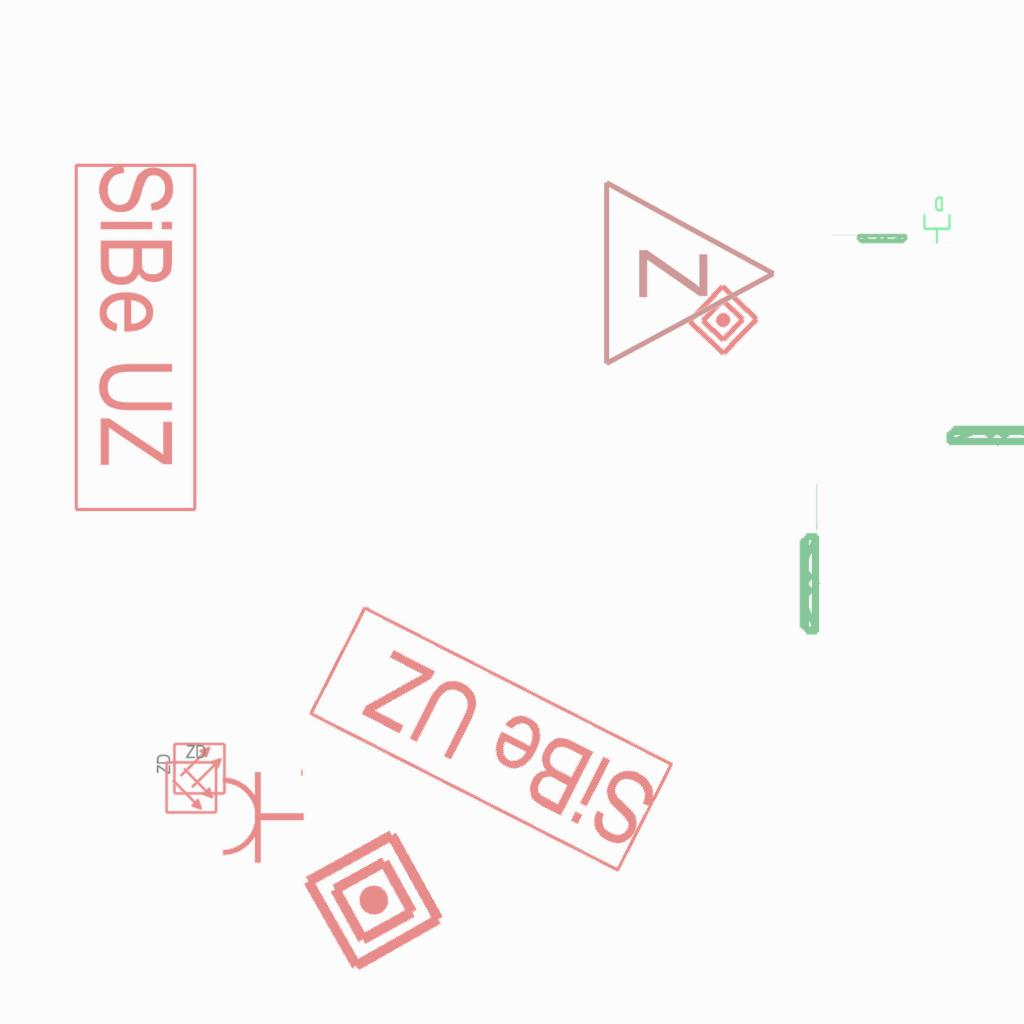Datenanschluss_einfach: (919, 195, 953, 245)
NAM-Nichtautomatischer_Melder: (296, 823, 451, 978), (683, 280, 763, 360)
Schukosteckdose_einfach: (219, 765, 306, 865)
Sicherheitsleuchte_Wandeinbau: (796, 479, 821, 638), (943, 422, 1024, 447), (830, 233, 909, 245)
ZD_Melder_in_Zwischendecke_mit_Revisionsoeffnung_mind_40_x_40_cm: (153, 741, 227, 798), (162, 741, 219, 815)
Zentrale_Sicherheitsbeleuchtung: (301, 599, 680, 877), (70, 160, 200, 517)
Zimmersignalleuchte: (589, 173, 789, 369)
